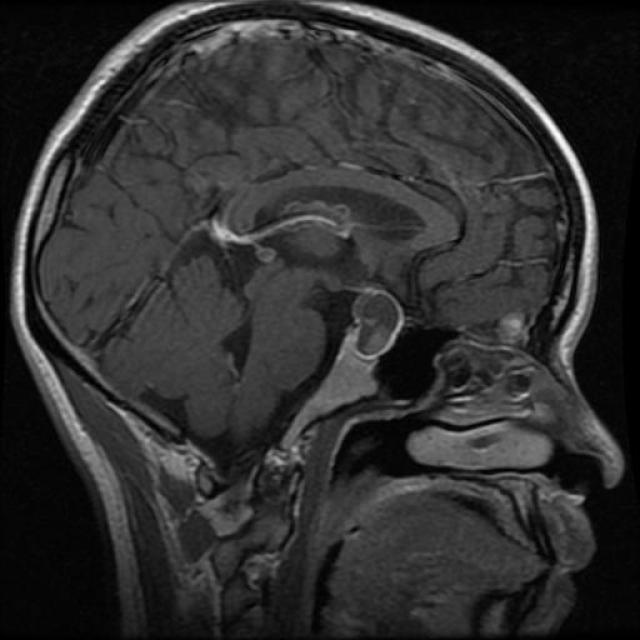pituitary: (340, 288, 418, 369)
